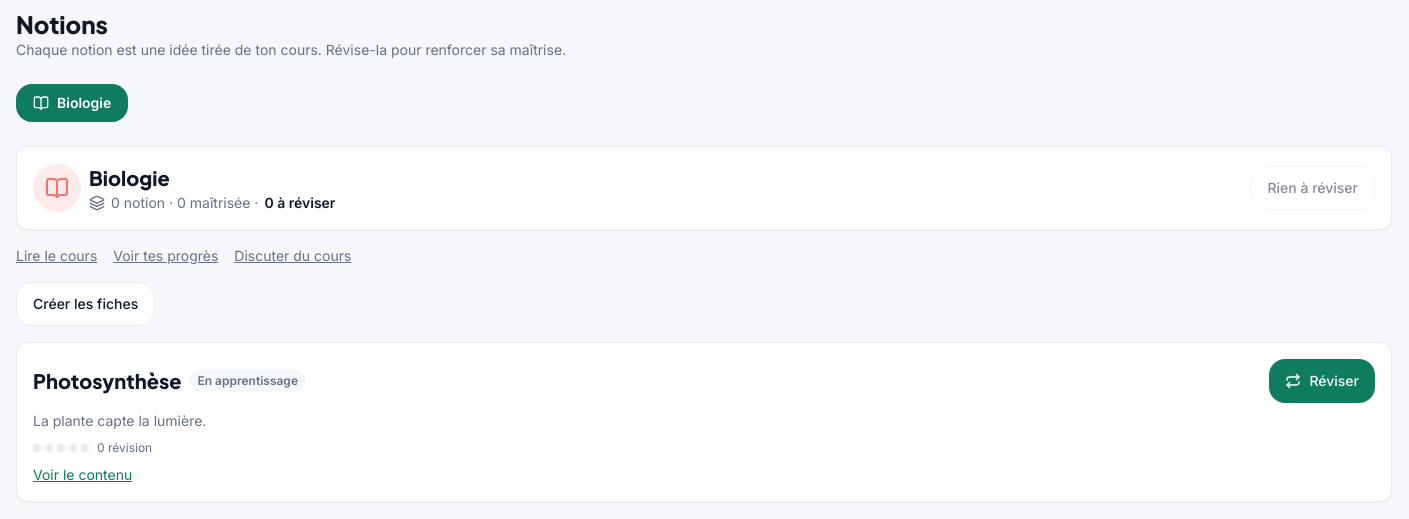
Test: NotionsScreen › generation: shows an error and re-enables the button if starting generation fails
Check: the heading "Photosynthèse" is shown, box [33,366,182,396]
Click the button "Créer les fiches" at {"x": 86, "y": 304}, box [16,282,155,326]
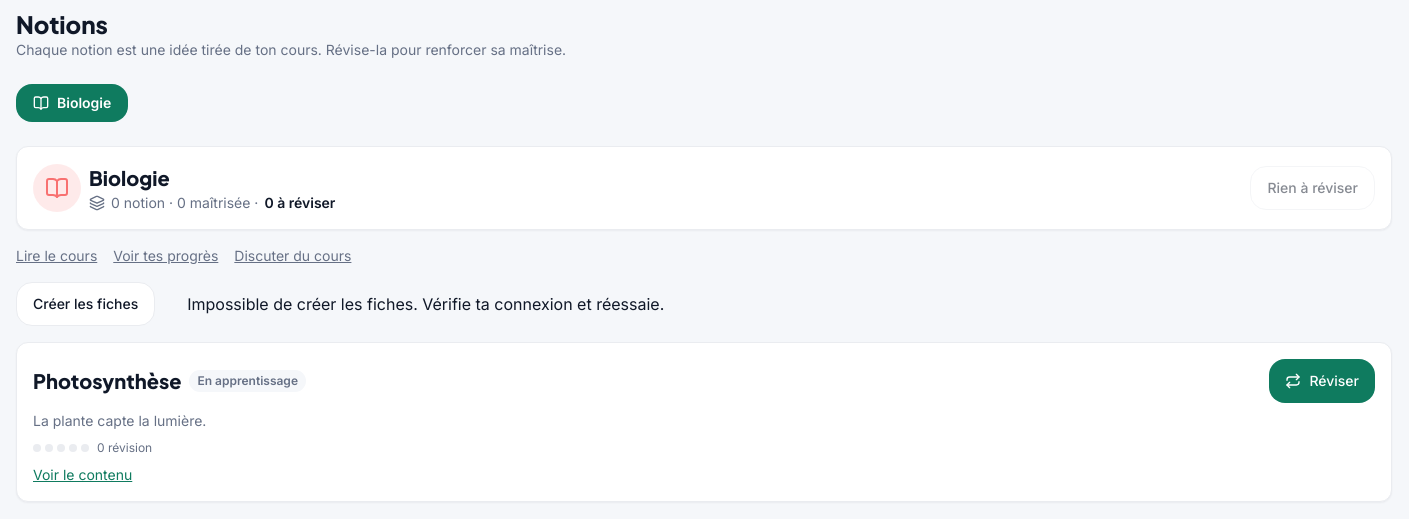
Check: the message shows "Impossible de créer les fiches", box [187,294,664,314]
